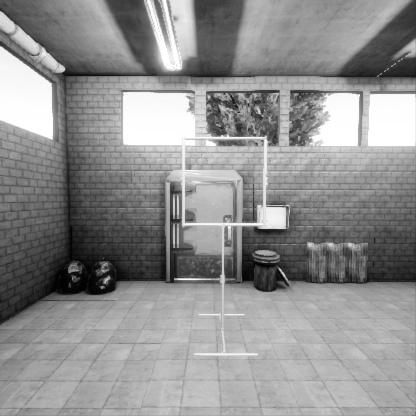gate: (181, 193, 272, 283)
